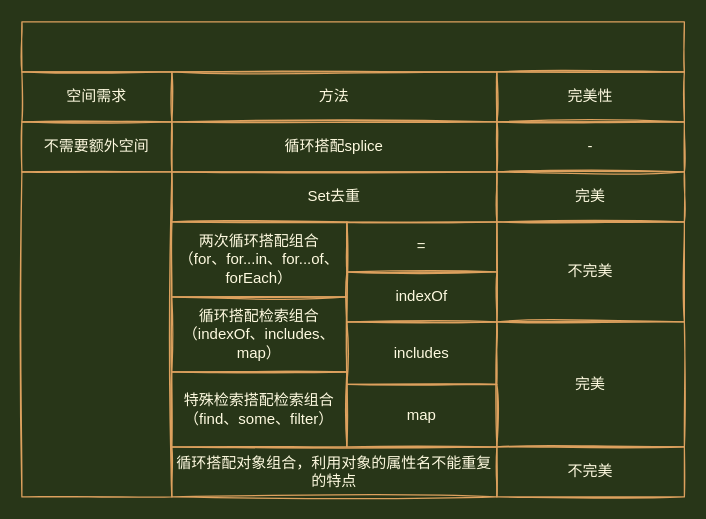
Image size: 706x519. Some labels were removed from this diagram. The centre of each missing label's shape, as x and y in pixels:
数组去重: the point at 352,46
需要额外空间: the point at 96,334
